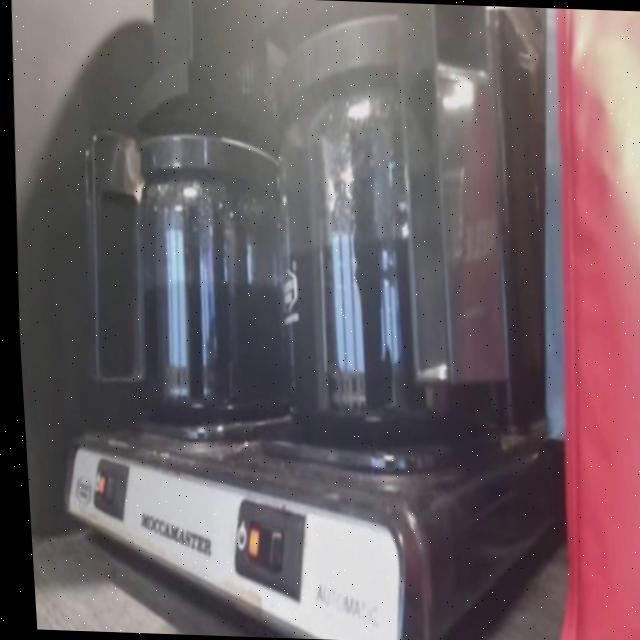coffee: (253, 8, 515, 441), (99, 52, 300, 450)
